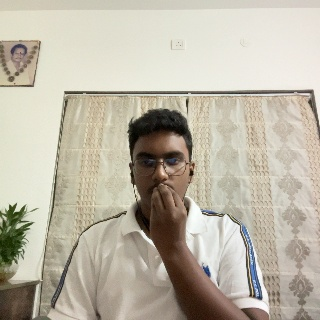Food: (148, 183, 194, 261)
